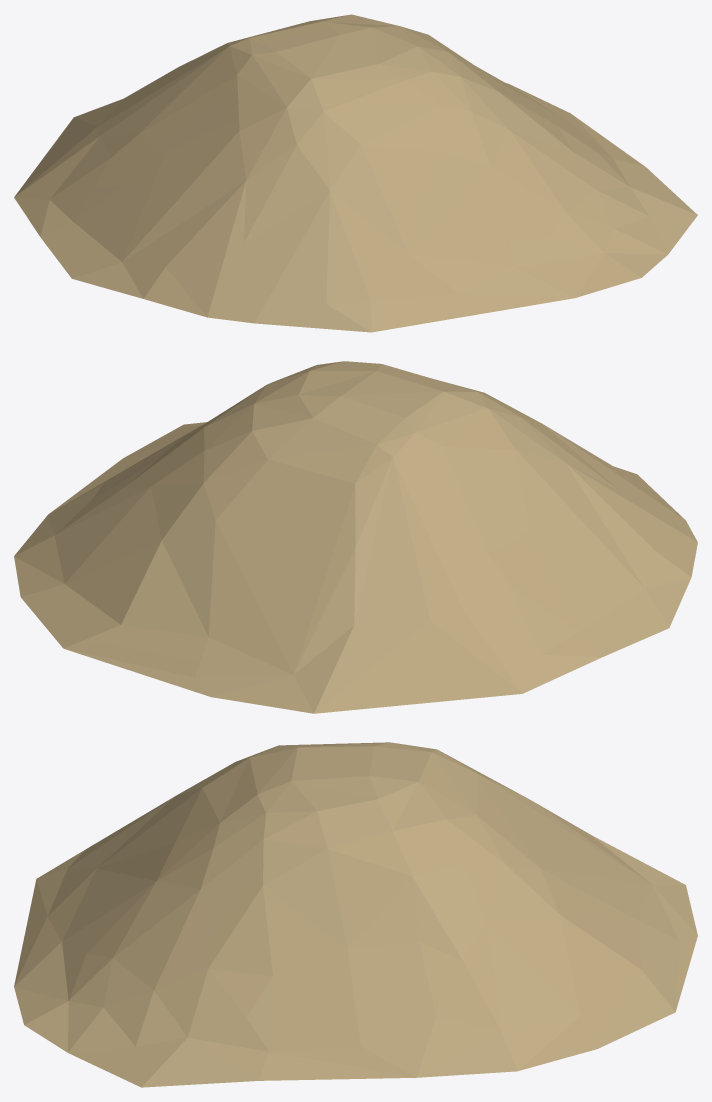
The model's file is SOP_Island_02.fbx.
3 renders of one model, top to bottom at view 1: azimuth 30°, elevation 25°; view 2: azimuth 150°, elevation 25°; view 3: azimuth 270°, elevation 25°, orthographic. The views are drawn at different scales.
Visible parts, largest first — view 1: Island_02; view 2: Island_02; view 3: Island_02.
Part boxes in pixels (x1=…): Island_02: x1=14, y1=14, x2=697, y2=332; Island_02: x1=14, y1=361, x2=697, y2=713; Island_02: x1=14, y1=742, x2=697, y2=1087.
Bounding box in the file's own units: 10.83 × 3.14 × 10.91.
